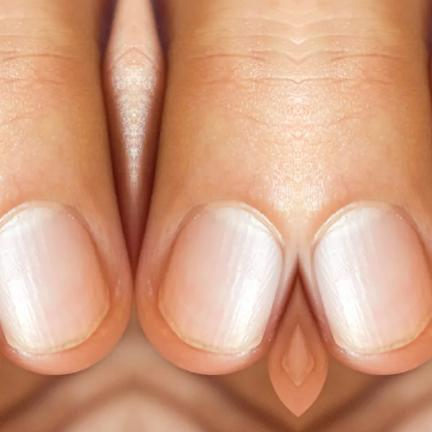Nail: (156, 200, 283, 355), (311, 200, 432, 355), (0, 200, 110, 355)
